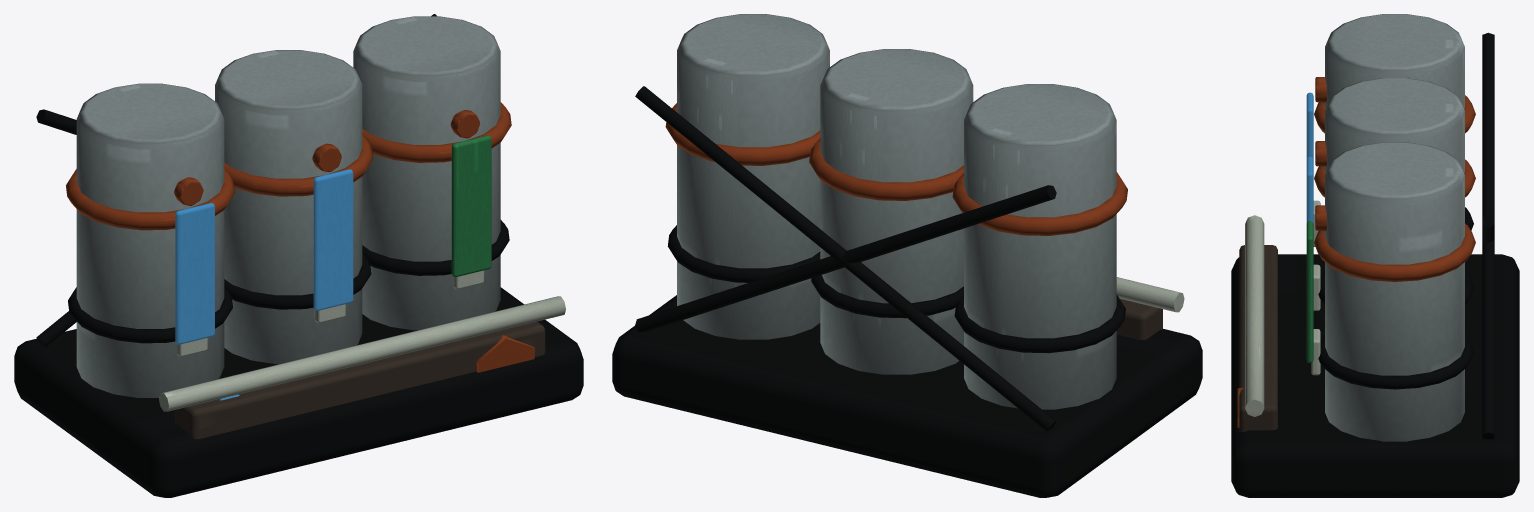
The model's file is storage-standard.glb.
3 renders of one model, left to right at view 1: azimuth 30°, elevation 25°; view 2: azimuth 150°, elevation 25°; view 3: azimuth 270°, elevation 25°, orthographic. The views are drawn at different scales.
Parts seen in each view (by area): view 1: Storage_Rack_Base, Storage_Canister_0, Storage_Canister_1, Storage_Canister_2, LEVEL_0, Storage_Access_Rail, LEVEL_2, LEVEL_3, LEVEL_1, Storage_Collar_0, Storage_Collar_1, Storage_Collar_2 (+8 smaller); view 2: Storage_Rack_Base, Storage_Canister_0, Storage_Canister_2, Storage_Canister_1, Storage_Back_Brace_A, Storage_Back_Brace_B, Storage_Collar_0, Storage_Collar_1, Storage_Lower_Collar_0, Storage_Collar_2, Storage_Lower_Collar_1, Storage_Lower_Collar_2 (+2 smaller); view 3: Storage_Canister_2, Storage_Rack_Base, Storage_Canister_0, Storage_Canister_1, Storage_Back_Brace_B, LEVEL_0, Storage_Access_Rail, Storage_Collar_2, Storage_Lower_Collar_2, LEVEL_3, Storage_Collar_0, Storage_Collar_1 (+6 smaller).
Part boxes in pixels (x1,y1,x2,y2): Storage_Rack_Base: [14, 287, 583, 497]; Storage_Canister_0: [76, 83, 224, 397]; Storage_Canister_1: [215, 50, 362, 364]; Storage_Canister_2: [353, 16, 500, 330]; LEVEL_0: [175, 321, 545, 439]; Storage_Access_Rail: [159, 296, 565, 411]; LEVEL_2: [313, 169, 353, 310]; LEVEL_3: [451, 135, 491, 276]; LEVEL_1: [175, 203, 214, 344]; Storage_Collar_0: [66, 169, 234, 230]; Storage_Collar_1: [224, 136, 373, 196]; Storage_Collar_2: [362, 102, 511, 162]; Storage_Rack_Base: [612, 295, 1202, 497]; Storage_Canister_0: [964, 84, 1116, 409]; Storage_Canister_2: [677, 14, 829, 339]; Storage_Canister_1: [820, 49, 973, 374]; Storage_Back_Brace_A: [635, 86, 1056, 431]; Storage_Back_Brace_B: [635, 185, 1056, 332]; Storage_Collar_0: [952, 172, 1127, 235]; Storage_Collar_1: [809, 138, 963, 200]; Storage_Lower_Collar_0: [954, 294, 1125, 353]; Storage_Collar_2: [665, 103, 820, 165]; Storage_Lower_Collar_1: [811, 275, 963, 318]; Storage_Lower_Collar_2: [667, 225, 820, 282]; Storage_Canister_2: [1325, 142, 1464, 441]; Storage_Rack_Base: [1231, 254, 1519, 497]; Storage_Canister_0: [1325, 14, 1464, 108]; Storage_Canister_1: [1325, 78, 1464, 172]; Storage_Back_Brace_B: [1482, 32, 1494, 439]; LEVEL_0: [1239, 245, 1277, 432]; Storage_Access_Rail: [1245, 215, 1264, 416]; Storage_Collar_2: [1314, 223, 1475, 281]; Storage_Lower_Collar_2: [1318, 335, 1473, 389]; LEVEL_3: [1306, 221, 1313, 363]; Storage_Collar_0: [1314, 95, 1475, 133]; Storage_Collar_1: [1314, 159, 1475, 197].
Size of the model in its own units: 1.22 by 0.85 by 0.74.
7 materials, 7 textured.
